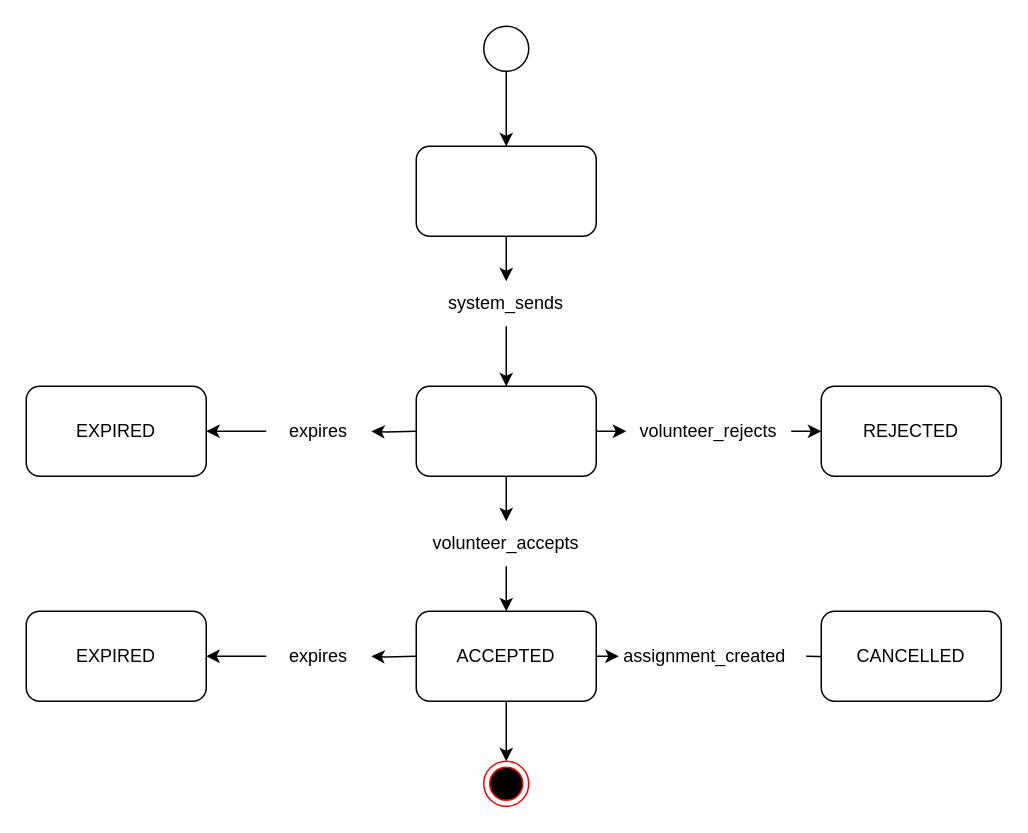
This 1028x833 diagram has some shape labels left out. Each missing label, with the centre of its shape:
"CREATED" belongs at (x=505, y=190).
"SENT" belongs at (x=505, y=430).
